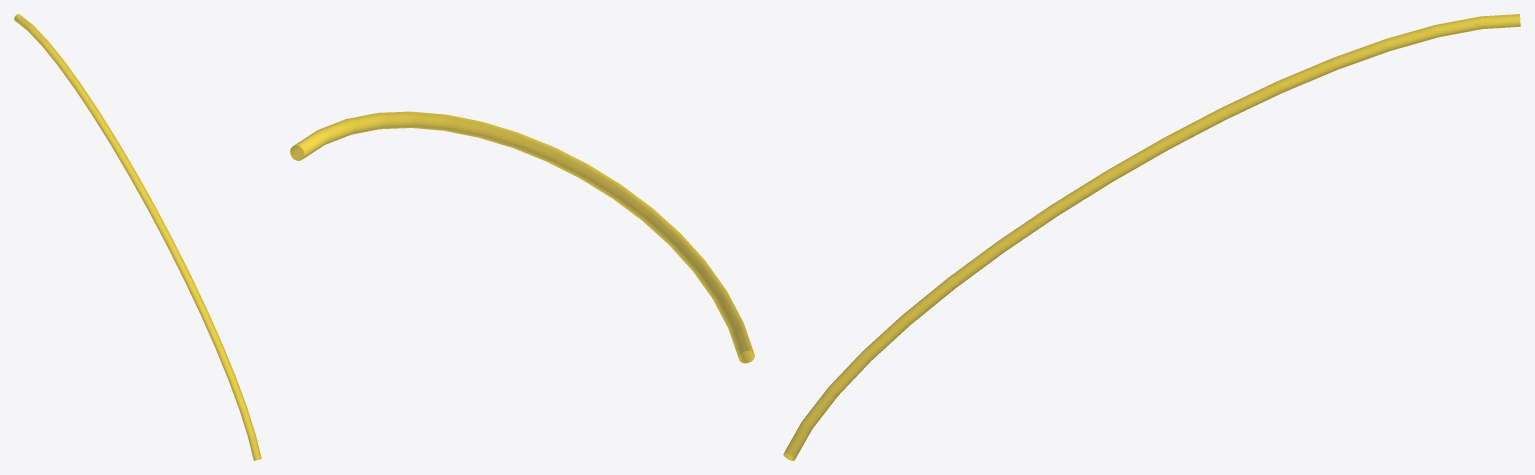
Rendered from Event_15818458_track_23.fbx.
The picture shows the model from 3 angles, left to right: view 1: azimuth 30°, elevation 25°; view 2: azimuth 150°, elevation 25°; view 3: azimuth 270°, elevation 25°; orthographic projection. The views are drawn at different scales.
Visible parts, largest first — view 1: Model; view 2: Model; view 3: Model.
Boxes of the visible parts, x1,y1,x2,y2 form: Model: (14,14,261,460); Model: (290,111,754,363); Model: (783,14,1520,460).
Bounding box in the file's own units: 0.0829 × 1.5 × 2.28.
